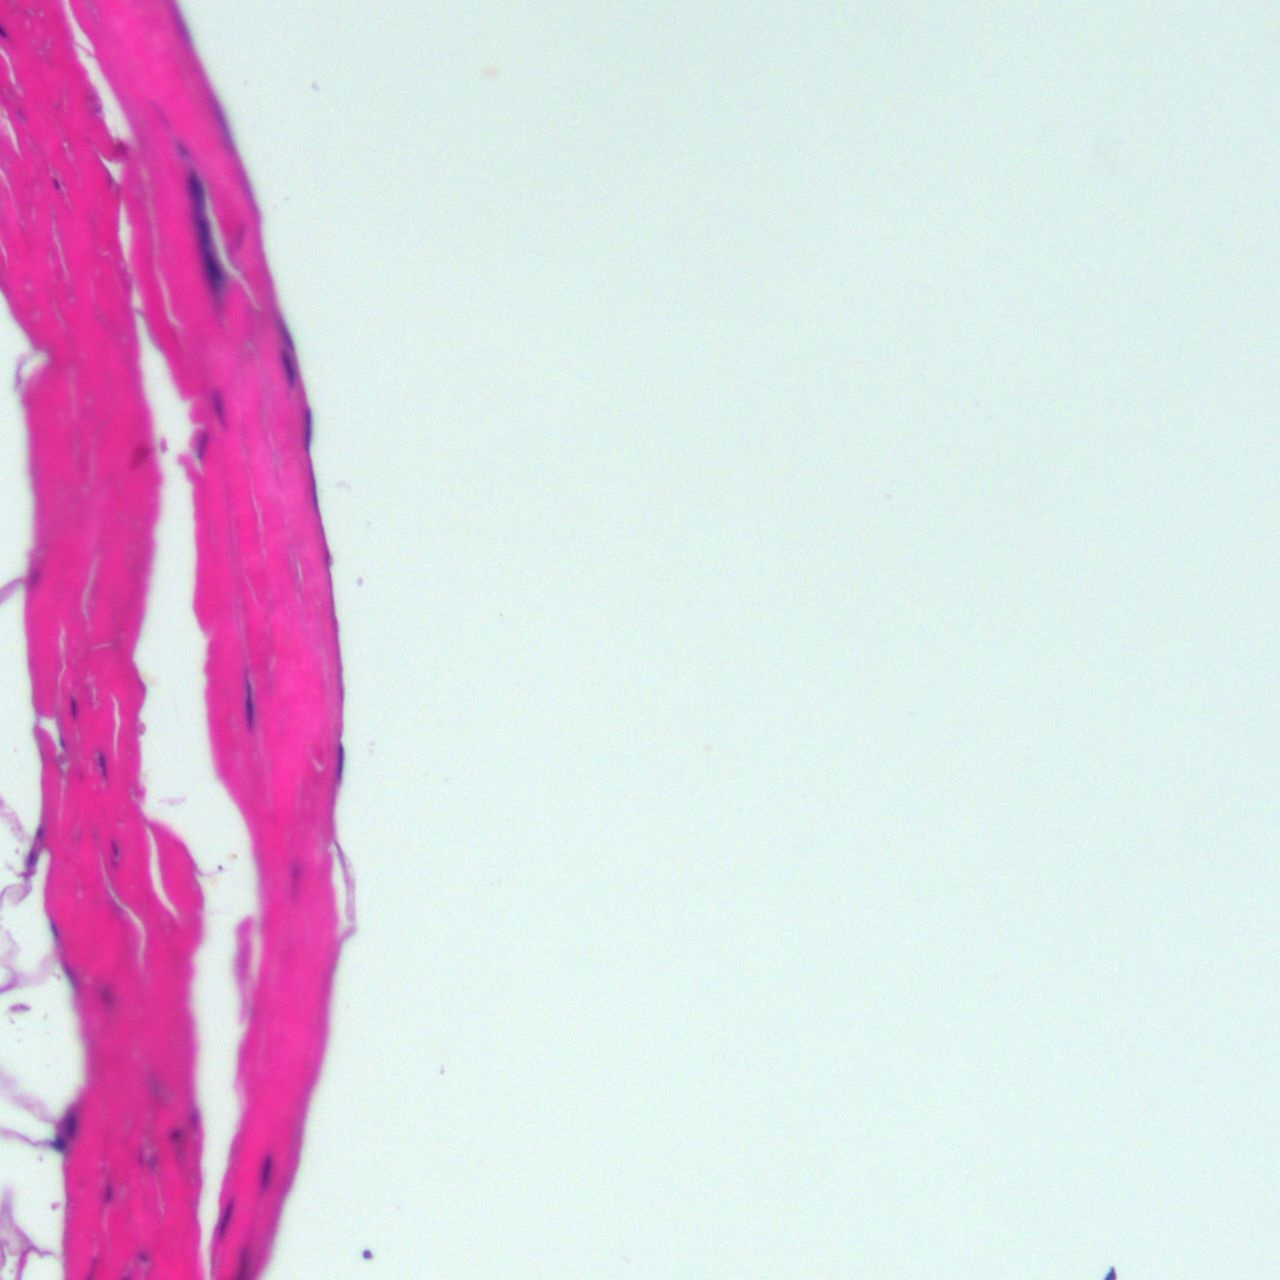dust: (361, 1248, 374, 1262)
nucleus-HE: (271, 306, 295, 350), (211, 1198, 238, 1238), (277, 348, 298, 388), (184, 170, 206, 206), (203, 252, 223, 292), (57, 960, 82, 990), (91, 747, 113, 779), (195, 217, 215, 251), (244, 673, 256, 728), (259, 1150, 272, 1191), (211, 390, 224, 428), (21, 849, 40, 873), (304, 409, 313, 449), (64, 1109, 77, 1137), (46, 917, 61, 939), (335, 740, 343, 781), (197, 430, 207, 458), (168, 1126, 183, 1143), (110, 836, 120, 862), (52, 1137, 64, 1149), (70, 697, 77, 715), (36, 825, 45, 839), (138, 1251, 147, 1262)
